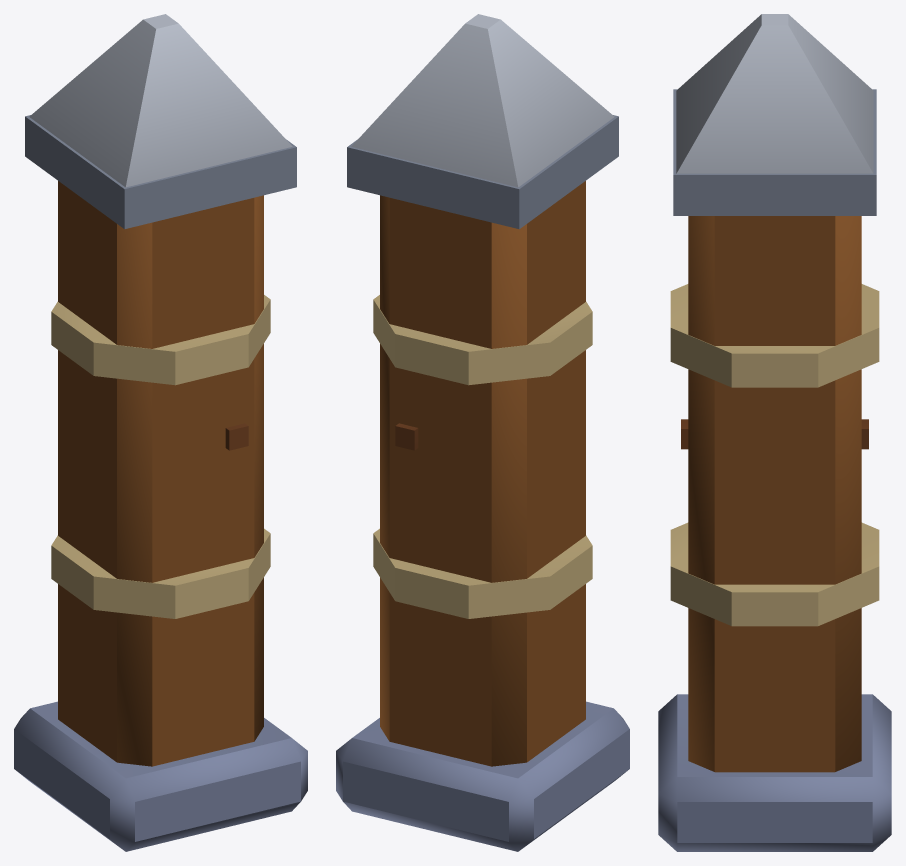
File: wall_post_0.glb
The picture shows the model from 3 angles, left to right: view 1: azimuth 30°, elevation 25°; view 2: azimuth 150°, elevation 25°; view 3: azimuth 270°, elevation 25°; orthographic projection. The views are drawn at different scales.
Parts seen in each view (by area): view 1: body; view 2: body; view 3: body.
Part boxes in pixels (x1,y1,x2,y2): body: (14, 14, 307, 851); body: (336, 14, 629, 851); body: (658, 14, 891, 851).
Bounding box in the file's own units: 0.62 × 2.32 × 0.62.
